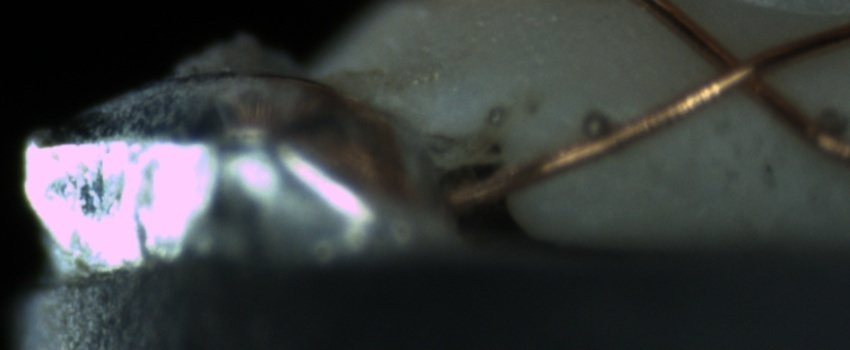CL: (692, 32, 788, 108)
